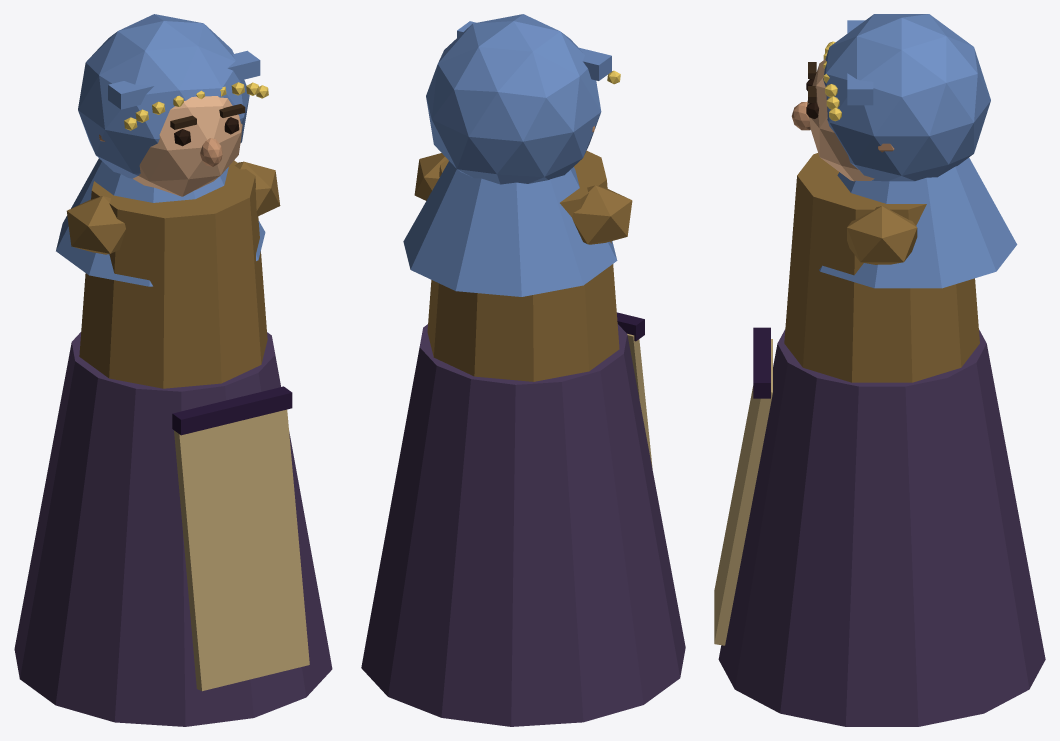
File: insan_k2_govde.glb
3 views of the same model, side by side, from view 1: azimuth 30°, elevation 25°; view 2: azimuth 150°, elevation 25°; view 3: azimuth 270°, elevation 25° (orthographic). The views are drawn at different scales.
Visible parts, largest first — view 1: Cone; view 2: Cone; view 3: Cone.
Part boxes in pixels (x1,y1,x2,y2): Cone: (14, 14, 332, 726); Cone: (361, 14, 685, 726); Cone: (714, 14, 1045, 726).
Bounding box in the file's own units: 0.1462 × 0.3248 × 0.152.
